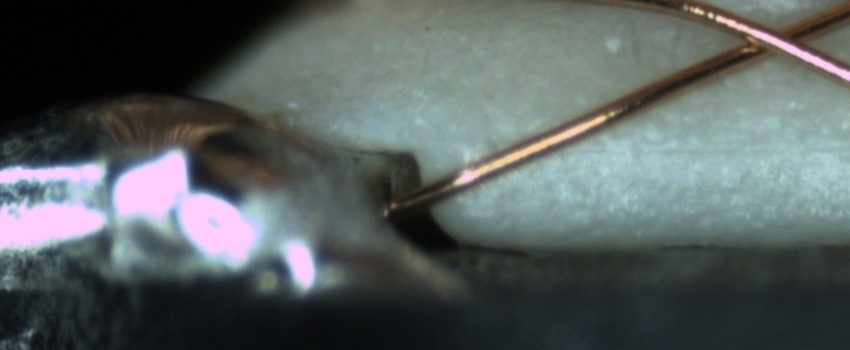CL: (720, 6, 840, 68)
DL: (555, 117, 849, 181)
